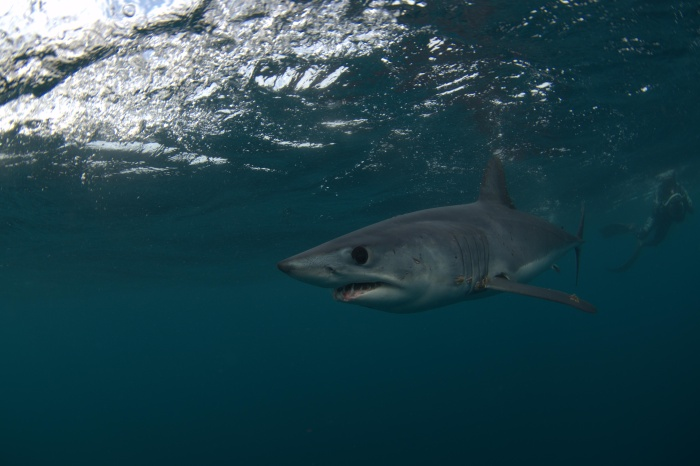Mako: (269, 155, 611, 322)
